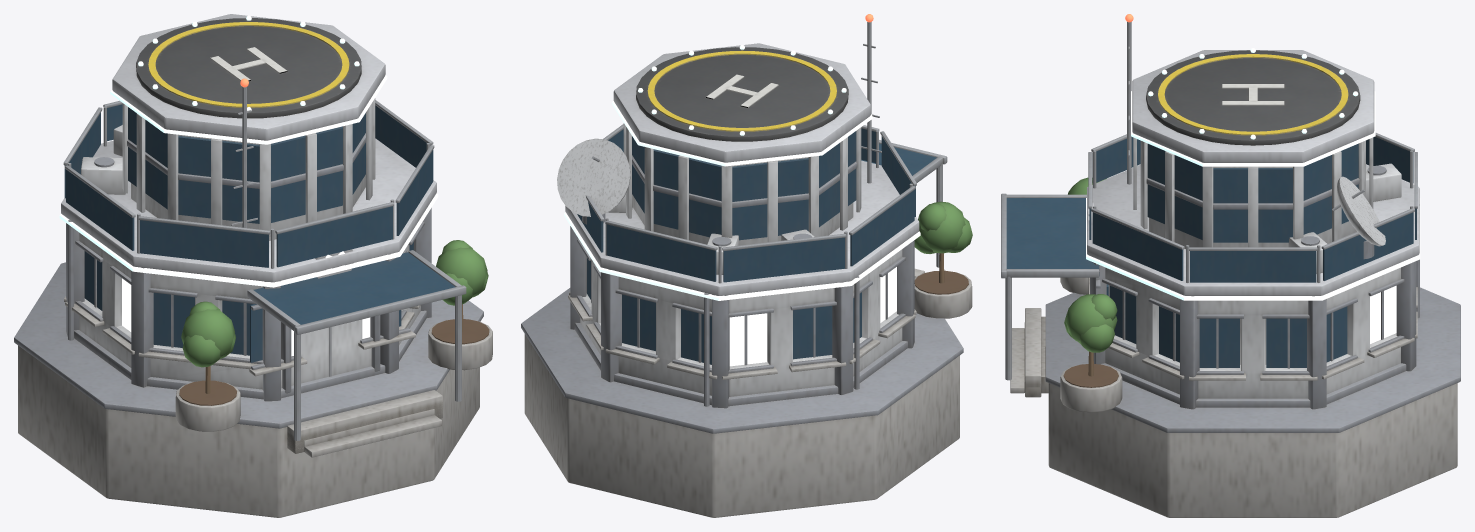
The model's file is west_hq.glb.
3 renders of one model, left to right at view 1: azimuth 30°, elevation 25°; view 2: azimuth 150°, elevation 25°; view 3: azimuth 270°, elevation 25°, orthographic. The views are drawn at different scales.
Parts seen in each view (by area): view 1: Hull; view 2: Hull, Radar; view 3: Hull, Radar.
Boxes of the visible parts, x1,y1,x2,y2 form: Hull: (14, 14, 492, 517); Hull: (521, 14, 972, 517); Radar: (557, 138, 630, 224); Hull: (1001, 14, 1460, 517); Radar: (1332, 176, 1385, 259).
Bounding box in the file's own units: 8.72 × 8.94 × 9.65.
Materials: 18 (18 with a texture image).
